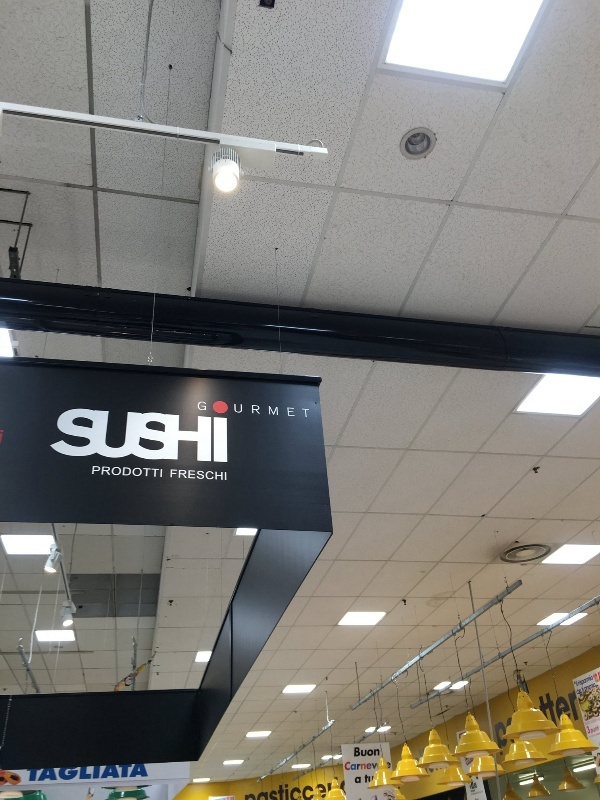text: (65, 405, 80, 464), (81, 405, 96, 464), (97, 405, 112, 464), (113, 405, 128, 464), (129, 405, 144, 464), (145, 405, 160, 464), (161, 405, 176, 464), (177, 405, 192, 464), (193, 405, 208, 464), (209, 405, 224, 464), (513, 691, 528, 747), (529, 691, 544, 747), (545, 691, 559, 747), (561, 691, 576, 728), (504, 691, 512, 747), (497, 723, 508, 759), (33, 763, 48, 782), (49, 763, 64, 782), (65, 763, 80, 782), (81, 763, 96, 782), (97, 763, 112, 782), (113, 763, 128, 782), (129, 763, 144, 782), (209, 400, 224, 418), (225, 400, 240, 418), (241, 400, 256, 418), (257, 400, 272, 418), (273, 400, 288, 418), (289, 400, 304, 418), (289, 783, 304, 800), (305, 783, 320, 800), (225, 405, 229, 464), (577, 674, 592, 689), (554, 691, 560, 728), (198, 400, 208, 418), (97, 466, 112, 478), (113, 466, 128, 478), (129, 466, 144, 478), (145, 466, 160, 478), (177, 470, 192, 481), (193, 470, 208, 481), (209, 470, 224, 481), (279, 783, 288, 800), (353, 762, 368, 772), (337, 781, 347, 795), (257, 791, 272, 800), (355, 748, 368, 758), (327, 781, 336, 795), (577, 691, 580, 728), (369, 748, 380, 758), (321, 783, 327, 800), (245, 791, 256, 800), (584, 681, 592, 693), (27, 763, 32, 782), (369, 762, 378, 772), (356, 777, 368, 784), (145, 763, 149, 782), (305, 400, 309, 418), (494, 723, 496, 759), (471, 782, 480, 790), (583, 686, 592, 694), (593, 726, 600, 736), (346, 762, 352, 772), (63, 405, 64, 464), (171, 470, 176, 481), (593, 681, 597, 693), (273, 791, 278, 800), (369, 775, 374, 784), (587, 726, 592, 735), (577, 689, 583, 696), (470, 785, 480, 789), (93, 466, 96, 478), (474, 783, 480, 789), (365, 775, 368, 784), (161, 466, 163, 478), (225, 470, 227, 481), (593, 674, 594, 689), (591, 726, 592, 736)
